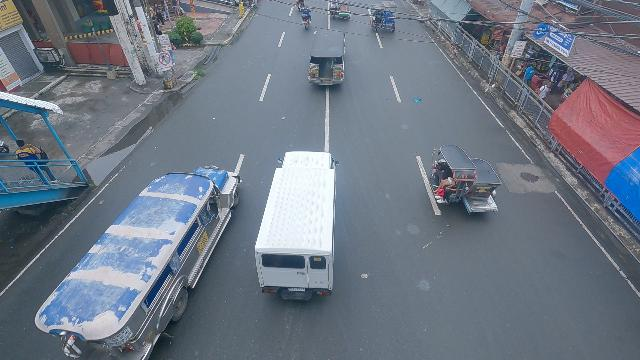jeepney: (31, 164, 241, 360), (307, 28, 346, 86)
motorcycle: (300, 6, 312, 29)
van: (253, 147, 341, 308)
